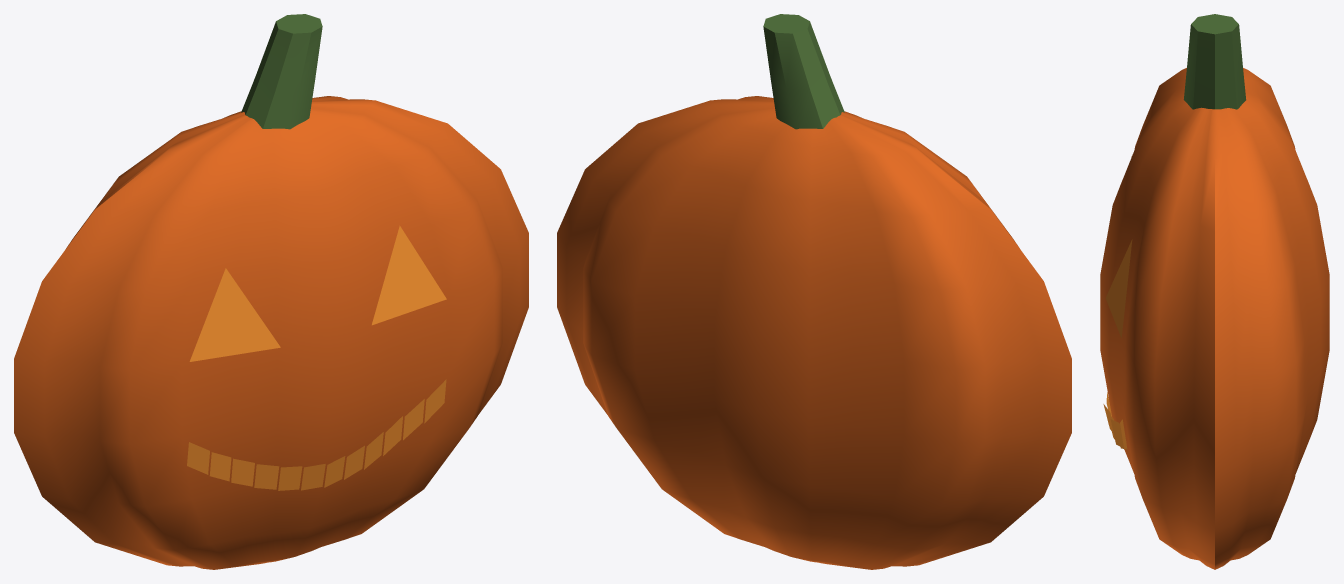
File: KD_Pumpkin_PumpkinBrooch.fbx
3 views of the same model, side by side, from view 1: azimuth 30°, elevation 25°; view 2: azimuth 150°, elevation 25°; view 3: azimuth 270°, elevation 25° (orthographic).
Visible parts, largest first — view 1: KD_Pumpkin_PumpkinBrooch; view 2: KD_Pumpkin_PumpkinBrooch; view 3: KD_Pumpkin_PumpkinBrooch.
Part boxes in pixels (x1,y1,x2,y2): KD_Pumpkin_PumpkinBrooch: (14, 14, 528, 569); KD_Pumpkin_PumpkinBrooch: (557, 14, 1071, 569); KD_Pumpkin_PumpkinBrooch: (1100, 14, 1329, 569).
Bounding box in the file's own units: 0.1479 × 0.1448 × 0.0572.
Materials: 1 (1 with a texture image).
